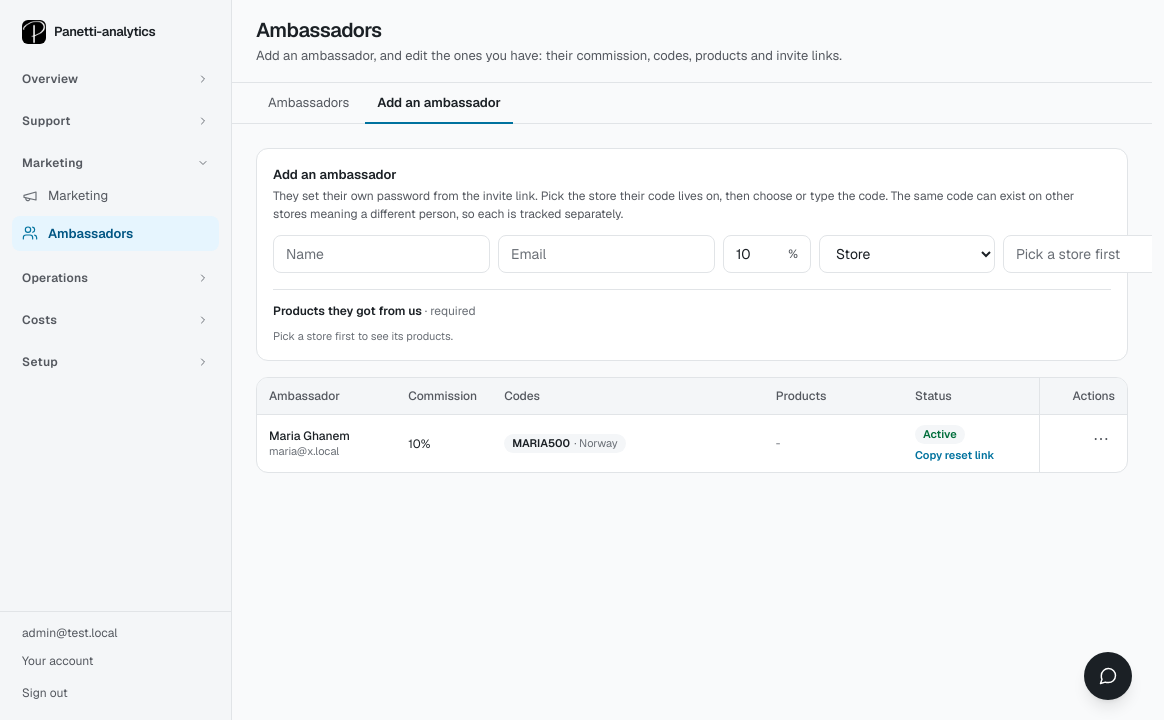
a reset link for an ambassador who already has a login › lets the admin copy one, beside the Active status
Expected: the text "Active" is shown, [915, 425, 965, 444]
Click the button with test id "copy-reset" at (955, 455), box [915, 448, 994, 462]
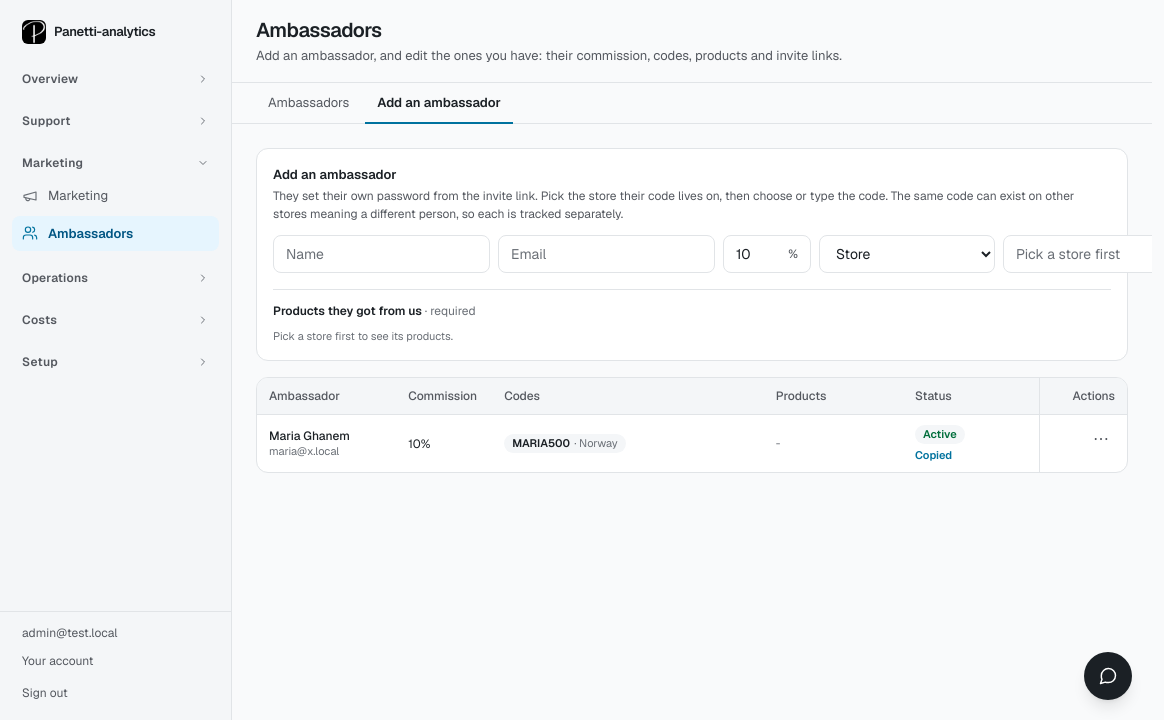
Expected: the button with test id "copy-reset" reads "Copied", [915, 448, 952, 462]
